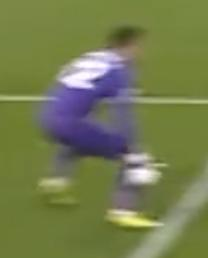goalkeeper: (25, 9, 193, 257)
